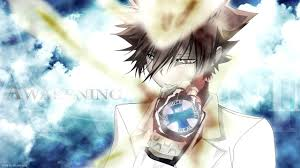Tsuna: (132, 1, 239, 96)
